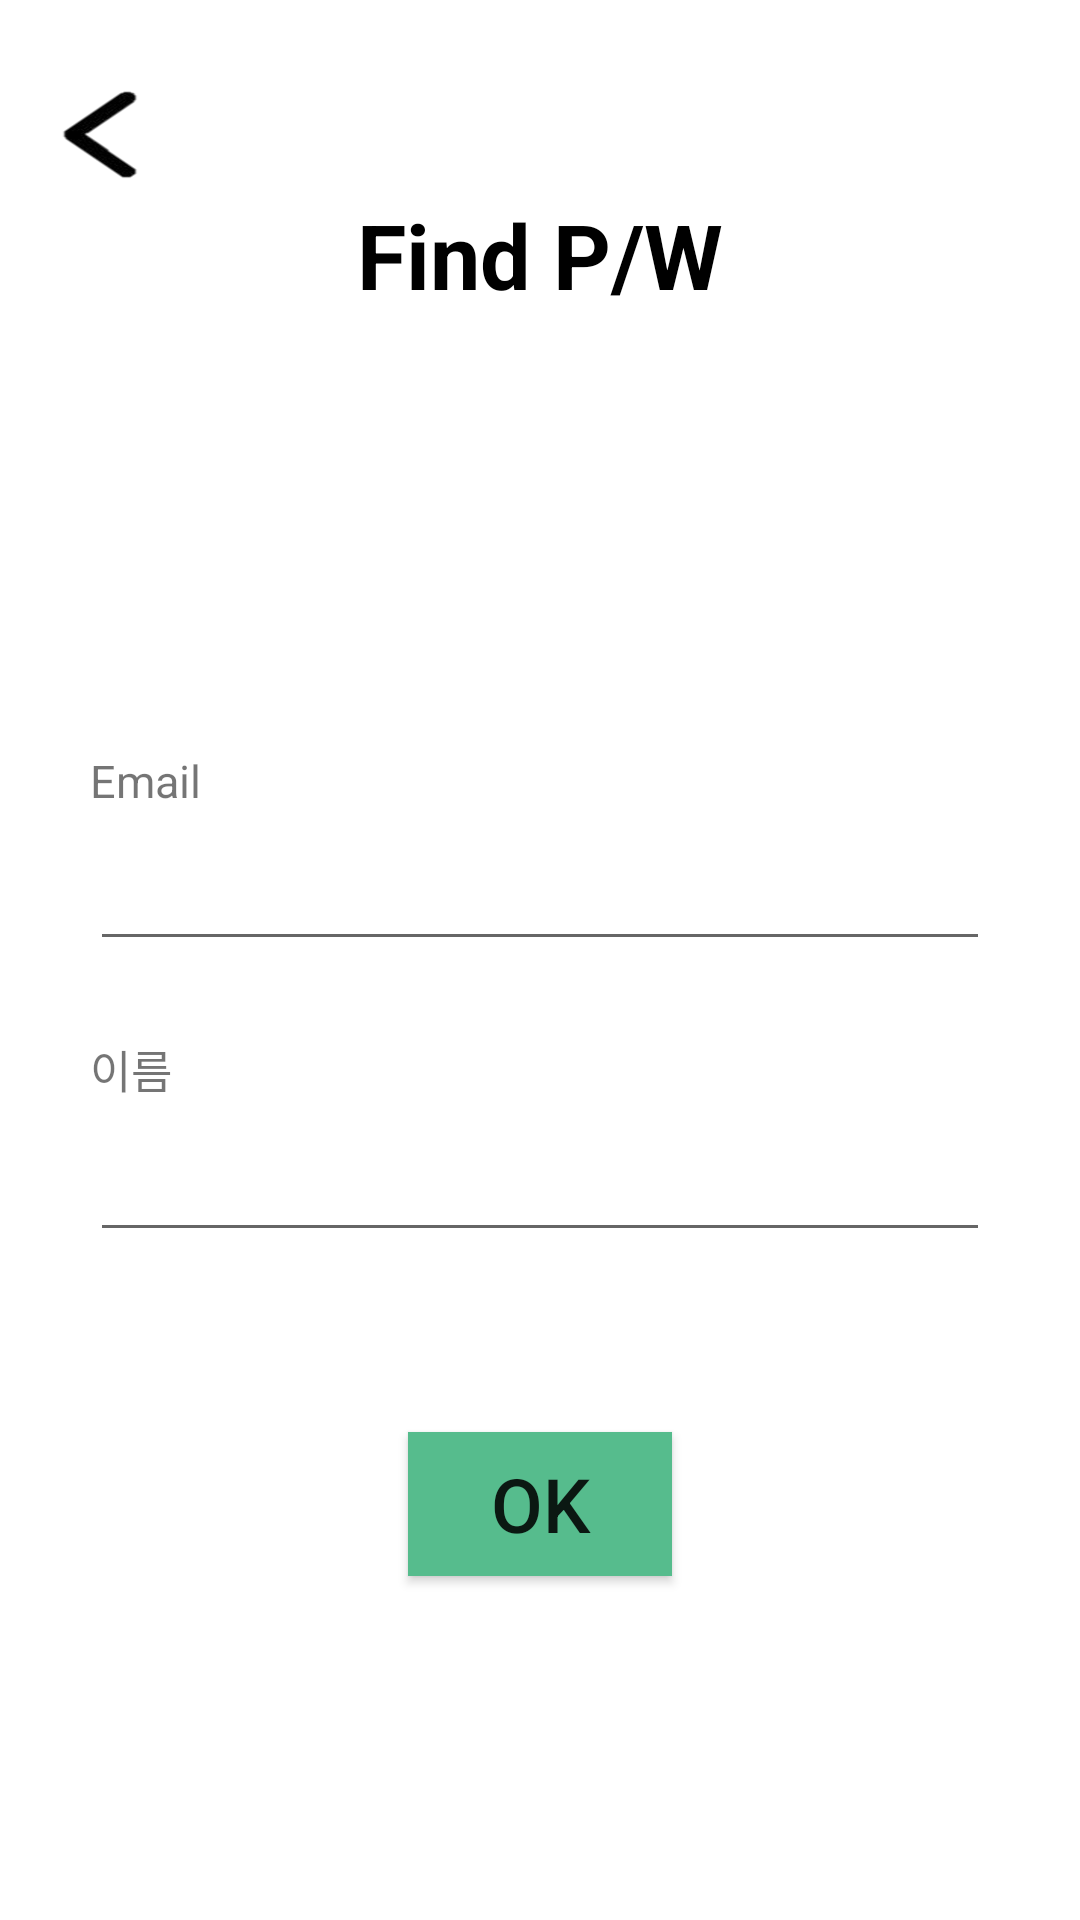

Screen size 1080 x 1920. Icon name, then its center in pixels as point (x, y):
toleft: point (100, 134)
